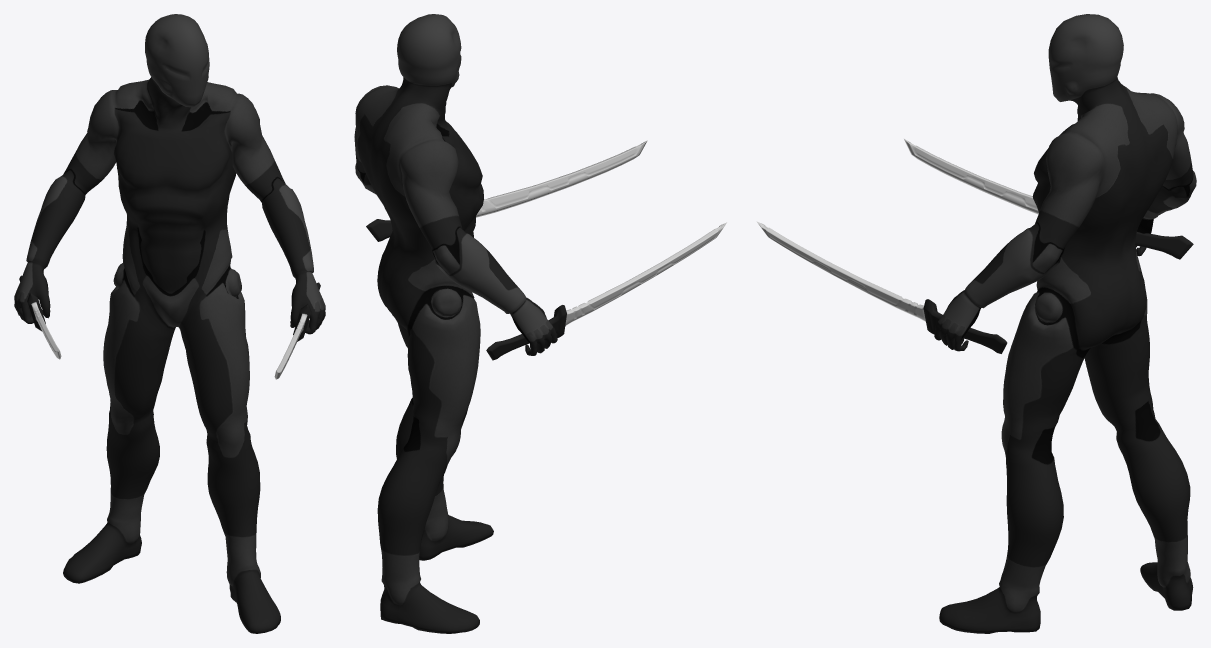
3 views of the same model, side by side, from view 1: azimuth 30°, elevation 25°; view 2: azimuth 150°, elevation 25°; view 3: azimuth 270°, elevation 25° (orthographic). The views are drawn at different scales.
Parts seen in each view (by area): view 1: Cyborg_Ninja_Killer, Sword_l, Sword_l001; view 2: Cyborg_Ninja_Killer, Sword_l001, Sword_l; view 3: Cyborg_Ninja_Killer, Sword_l, Sword_l001.
Boxes of the visible parts, x1,y1,x2,y2 form: Cyborg_Ninja_Killer: (14, 14, 325, 633); Sword_l: (274, 282, 320, 379); Sword_l001: (19, 275, 61, 359); Cyborg_Ninja_Killer: (354, 14, 557, 633); Sword_l001: (486, 222, 726, 360); Sword_l: (366, 140, 647, 241); Cyborg_Ninja_Killer: (934, 14, 1196, 633); Sword_l: (756, 221, 1007, 353); Sword_l001: (904, 139, 1193, 259).
Size of the model in its own units: 105 by 182 by 123.
2 materials, 2 textured.
